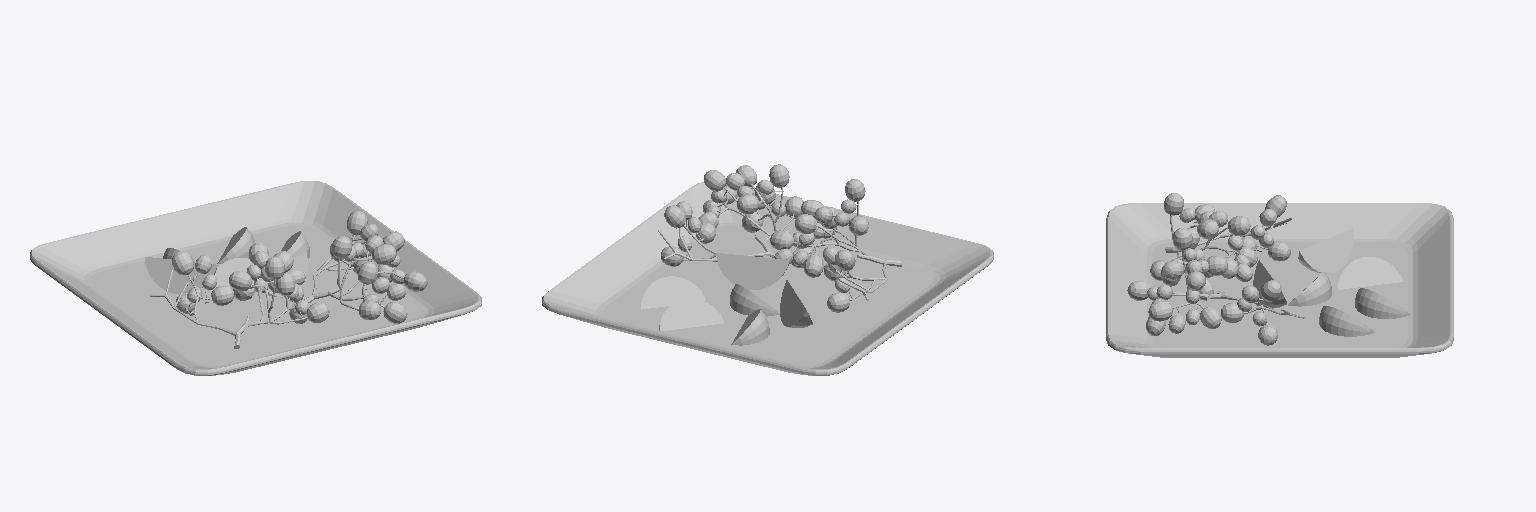
File: Grapes_and_Orange_Slices_OBJ.obj
The picture shows the model from 3 angles: view 1: azimuth 30°, elevation 25°; view 2: azimuth 150°, elevation 25°; view 3: azimuth 270°, elevation 25°; orthographic projection.
Parts seen in each view (by area): view 1: Grapes_And_Orange_Slice; view 2: Grapes_And_Orange_Slice; view 3: Grapes_And_Orange_Slice.
Part boxes in pixels (x1,y1,x2,y2): Grapes_And_Orange_Slice: (30,181,481,375); Grapes_And_Orange_Slice: (542,164,993,375); Grapes_And_Orange_Slice: (1106,193,1453,357).
Size of the model in its own units: 35.53 by 10.27 by 35.53.